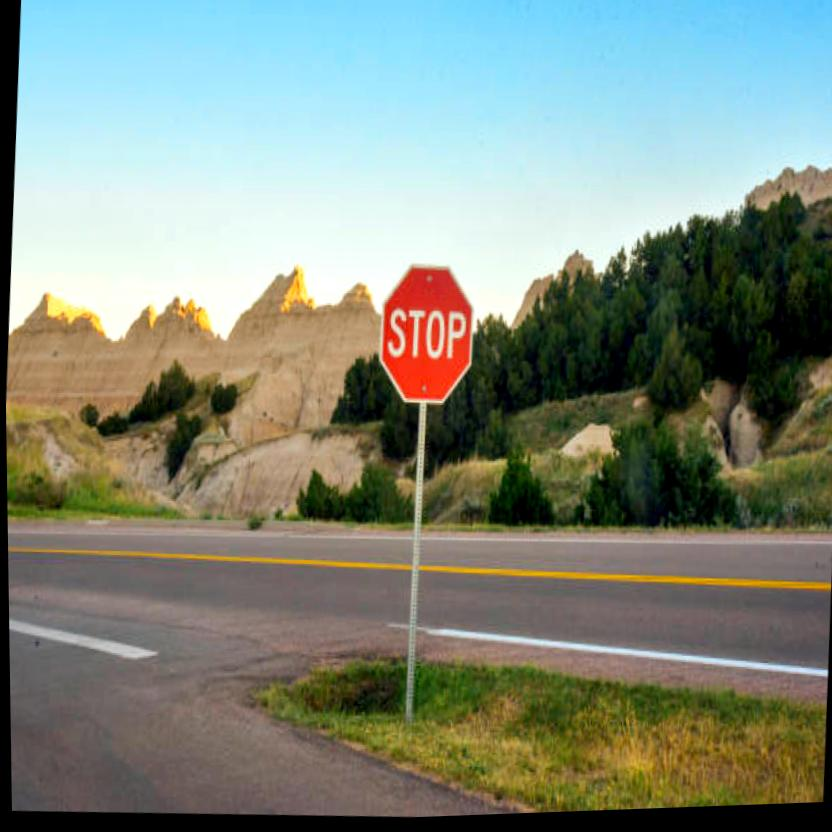Pole: (397, 411, 433, 730)
Sign: (376, 266, 477, 411)
